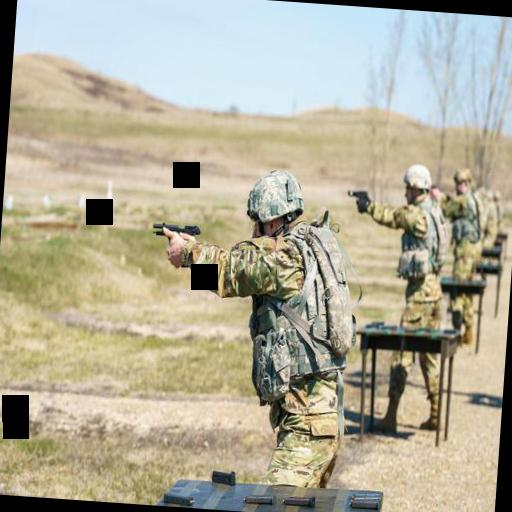Handgun: (148, 215, 200, 249), (344, 184, 368, 204)
